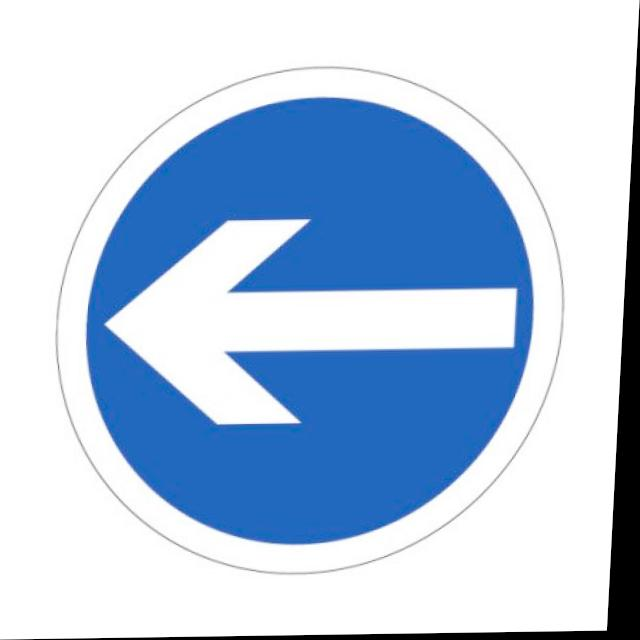COMPULSARY_TURN_LEFT: (43, 61, 587, 582)
